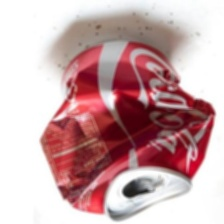can: (28, 33, 217, 221)
